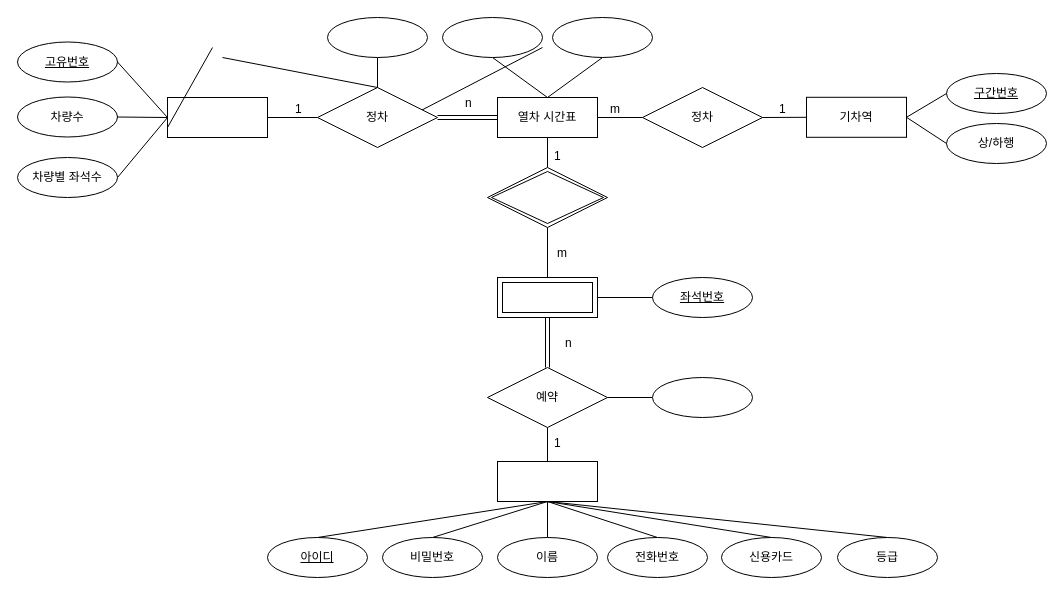
Image size: 1064x595. Some labels were removed from this diagram. Here are the shapes that lost their labels. From the top down, the centre of each, then its label:
the point at 377,37: 열차등급
the point at 492,37: 기차시간
the point at 602,37: 운임
the point at 217,117: 열차
the point at 547,197: 존재
the point at 547,297: 예약좌석
the point at 702,397: 예매일시
the point at 547,481: 회원
